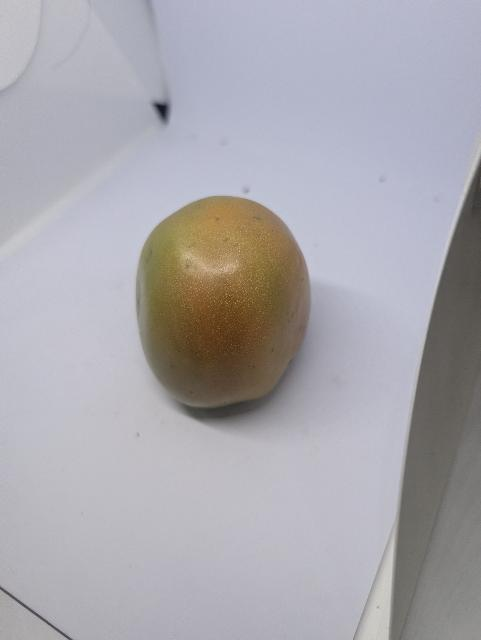breaker: (129, 194, 317, 415)
